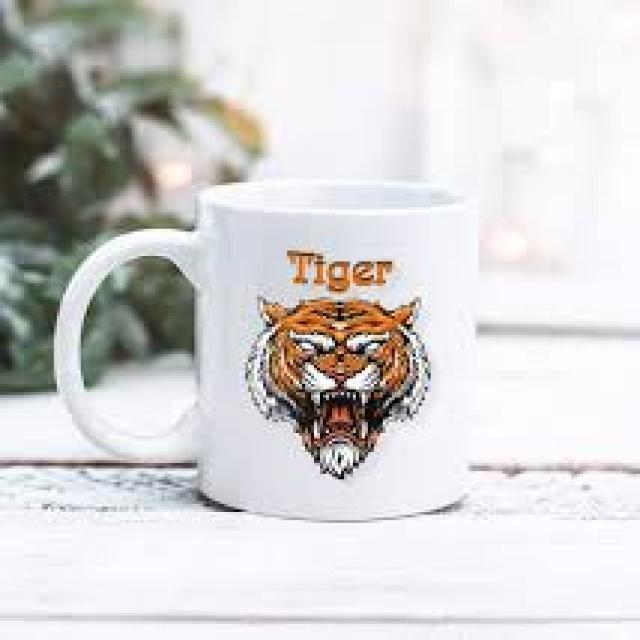taza: (56, 182, 480, 524)
